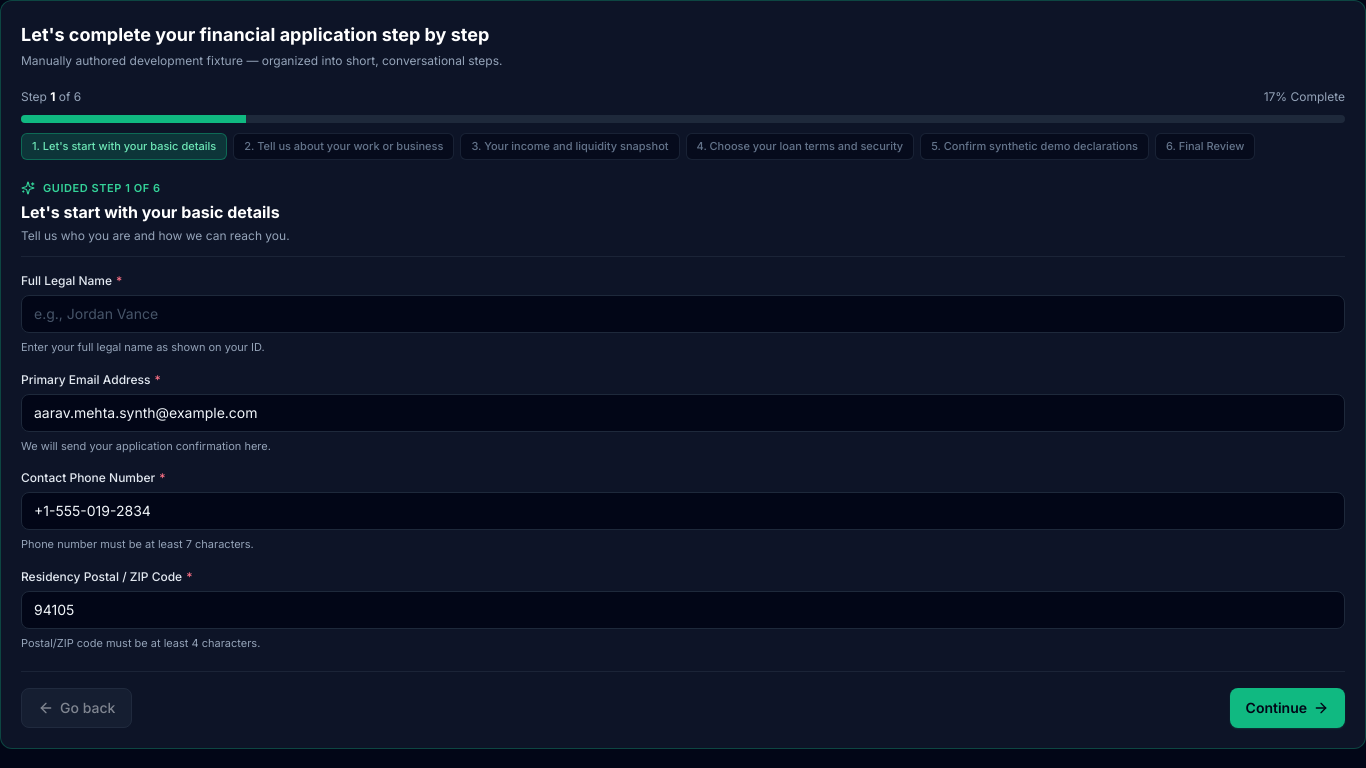
Day 7: Dynamic React Renderer (8 Core Tests) › 5. invalid step fields prevent advancing to the next step
Click the button with test id "adaptive-next-btn": (1287, 708) [1230,688,1345,728]
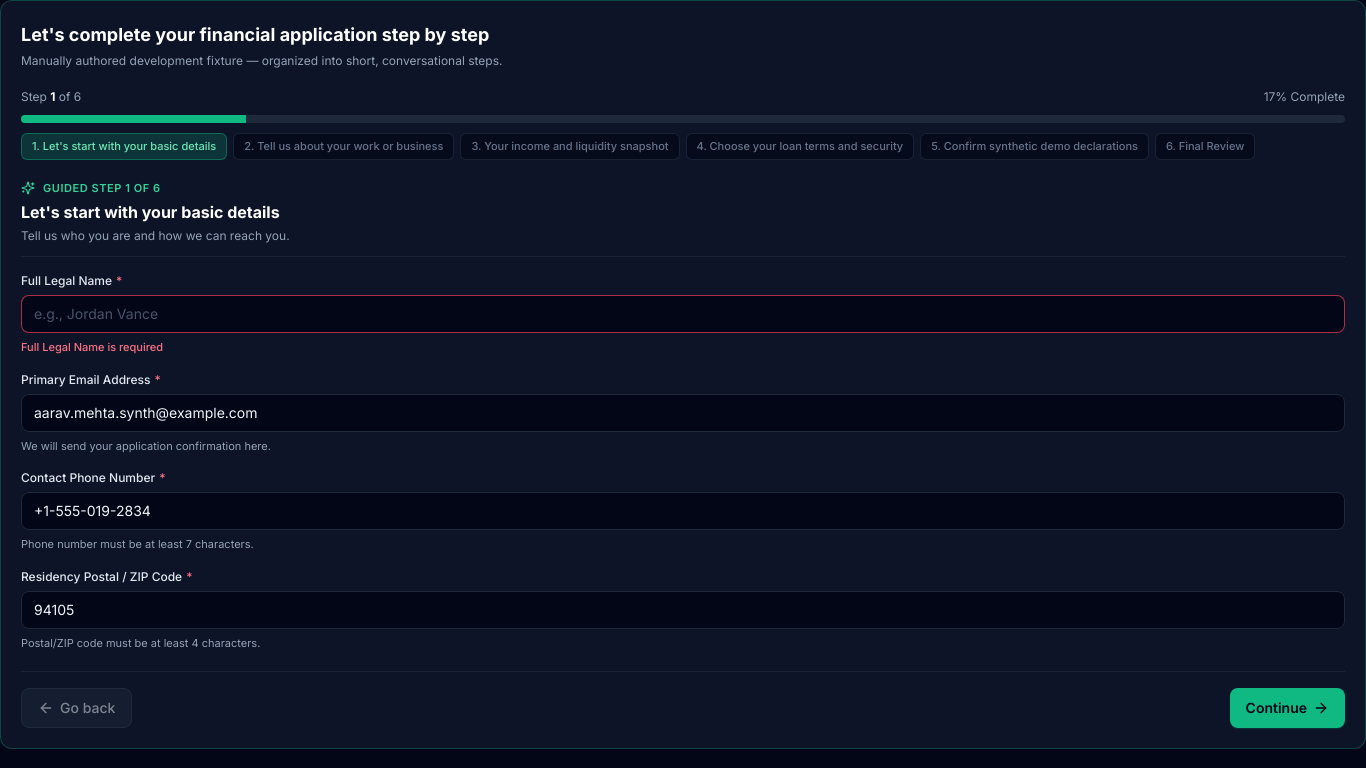
Check: the text with test id "adaptive-progress-step" reads "1", box [50,89,55,104]
Check: the message with test id "adaptive-error-fullName" reads "Full Legal Name is required", box [21,340,163,354]
